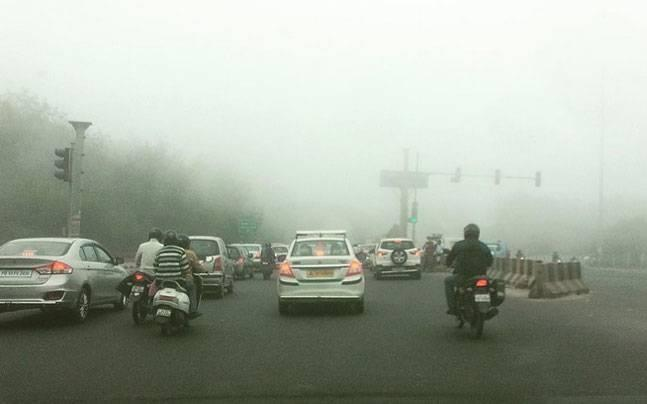backpack: (446, 224, 488, 304), (116, 268, 154, 313), (450, 228, 490, 270), (135, 229, 164, 270), (449, 247, 493, 273), (154, 244, 185, 272), (182, 242, 208, 275), (186, 251, 205, 273)
bench: (486, 240, 507, 257)
bicycle: (116, 261, 157, 318), (185, 251, 207, 311), (409, 241, 439, 268), (189, 271, 204, 311), (353, 242, 377, 265)
boat: (443, 225, 492, 271)
car: (0, 235, 129, 321), (56, 245, 185, 322), (274, 233, 367, 314), (124, 248, 209, 316), (143, 236, 226, 303), (421, 231, 498, 301), (382, 226, 477, 280), (153, 232, 200, 321), (129, 229, 201, 282), (121, 268, 184, 326), (140, 229, 185, 310), (144, 268, 199, 332), (117, 243, 183, 296), (281, 232, 359, 276), (185, 236, 235, 299), (153, 263, 214, 313), (126, 234, 162, 318), (171, 260, 228, 306), (200, 238, 252, 288), (438, 225, 492, 273), (254, 237, 317, 277), (163, 234, 220, 278), (175, 234, 206, 311), (229, 236, 274, 288), (116, 261, 157, 318), (370, 236, 421, 278), (387, 234, 438, 275), (180, 237, 216, 292), (406, 235, 458, 269), (464, 235, 507, 274), (233, 237, 287, 266), (190, 265, 235, 299), (356, 238, 397, 275), (288, 231, 349, 255), (274, 239, 309, 280), (427, 237, 474, 266), (241, 242, 277, 279), (185, 251, 207, 311), (288, 238, 339, 263), (114, 260, 142, 303), (177, 234, 206, 274), (228, 242, 260, 278), (308, 229, 362, 250), (253, 245, 285, 280), (368, 242, 408, 269), (280, 235, 325, 258), (375, 238, 417, 262), (373, 258, 421, 279), (379, 246, 421, 270), (401, 245, 437, 272), (211, 241, 239, 272), (418, 235, 447, 264), (483, 239, 509, 271), (416, 245, 450, 269), (344, 239, 366, 276), (272, 246, 295, 281), (265, 243, 288, 277), (220, 247, 237, 292), (410, 241, 440, 266), (394, 241, 424, 266), (350, 237, 381, 261), (189, 235, 224, 256), (436, 230, 464, 256), (222, 243, 242, 279), (399, 239, 433, 259), (430, 238, 457, 263), (353, 242, 376, 271), (232, 242, 262, 264), (255, 241, 278, 268), (249, 253, 272, 279), (227, 245, 248, 273), (241, 244, 261, 273), (234, 249, 252, 280), (441, 239, 461, 266), (387, 242, 411, 264), (260, 247, 276, 280), (420, 241, 437, 271), (514, 272, 543, 289), (249, 242, 272, 263), (425, 239, 441, 268), (424, 232, 444, 255), (381, 237, 416, 250), (526, 268, 543, 294), (404, 244, 426, 263), (421, 245, 446, 261), (264, 242, 282, 264), (412, 244, 430, 266), (273, 247, 287, 275), (485, 240, 508, 257), (228, 240, 260, 252), (346, 241, 365, 261), (228, 242, 253, 257), (412, 241, 437, 256), (444, 237, 463, 256), (350, 235, 377, 248), (245, 252, 258, 279), (271, 244, 288, 264), (353, 241, 373, 258), (428, 241, 449, 257), (277, 254, 291, 278), (244, 243, 262, 261), (227, 244, 245, 262), (408, 239, 430, 253), (434, 246, 451, 264), (510, 272, 528, 289), (432, 239, 444, 264), (353, 239, 376, 252), (419, 237, 439, 251), (444, 243, 456, 266), (391, 248, 408, 264), (273, 251, 291, 265), (399, 238, 417, 251), (518, 273, 533, 288), (425, 233, 441, 246), (525, 272, 536, 289)
chair: (353, 242, 377, 265), (486, 240, 508, 257)
handbag: (452, 237, 490, 272), (154, 244, 185, 272)
horse: (443, 224, 492, 308)
motorcycle: (448, 226, 529, 335), (416, 242, 511, 324), (138, 239, 204, 315), (446, 259, 506, 339), (444, 231, 494, 319), (137, 270, 200, 333), (455, 246, 510, 313), (177, 247, 225, 319), (122, 258, 183, 314), (185, 236, 235, 299), (137, 229, 174, 312), (167, 249, 207, 325), (123, 274, 176, 331), (442, 227, 499, 280), (441, 269, 484, 336), (126, 240, 161, 318), (152, 256, 195, 318), (464, 273, 506, 327), (118, 269, 156, 324), (153, 280, 190, 331), (442, 259, 472, 318), (180, 248, 202, 314), (126, 257, 155, 305), (166, 272, 194, 321), (133, 277, 159, 328), (145, 278, 172, 327), (115, 268, 145, 311), (249, 242, 276, 280), (187, 264, 207, 315), (129, 275, 149, 326), (227, 244, 254, 279), (411, 239, 441, 267), (423, 239, 449, 268), (353, 242, 377, 271), (420, 241, 437, 271), (434, 245, 451, 265)
person: (8, 237, 135, 321), (135, 229, 228, 305), (125, 248, 207, 322), (432, 219, 510, 287), (442, 222, 491, 311), (147, 229, 196, 314), (448, 256, 499, 334), (460, 242, 509, 319), (131, 236, 174, 320), (150, 267, 194, 333), (137, 228, 196, 276), (118, 247, 162, 311), (182, 234, 220, 303), (163, 234, 220, 278), (158, 260, 203, 314), (175, 234, 206, 311), (444, 223, 493, 268), (443, 242, 474, 312), (444, 266, 484, 320), (133, 228, 163, 299), (116, 269, 156, 322), (120, 228, 158, 280), (127, 227, 174, 269), (168, 229, 199, 291), (468, 231, 506, 279), (112, 257, 147, 307), (151, 230, 181, 279), (126, 257, 155, 305), (185, 251, 207, 311), (440, 223, 481, 255), (443, 229, 473, 272), (462, 238, 493, 279), (238, 241, 272, 278), (385, 236, 421, 270), (462, 221, 492, 260), (403, 236, 438, 269), (177, 265, 203, 309), (449, 247, 493, 273), (179, 234, 205, 274), (134, 231, 160, 271), (160, 230, 190, 264), (182, 245, 202, 294), (273, 244, 297, 282), (186, 235, 217, 264), (253, 242, 277, 279), (136, 272, 157, 311), (223, 246, 242, 289), (438, 230, 460, 267), (227, 245, 250, 279), (174, 233, 199, 263), (268, 243, 289, 277), (423, 233, 444, 266), (185, 246, 209, 274), (353, 242, 377, 269), (418, 239, 438, 271), (263, 244, 281, 279), (445, 237, 463, 269), (426, 243, 451, 266), (507, 249, 523, 283), (180, 242, 196, 275), (144, 275, 160, 308), (319, 239, 349, 256), (413, 239, 433, 264), (528, 263, 542, 298), (249, 242, 272, 263), (297, 240, 327, 256), (182, 242, 207, 261), (309, 240, 338, 256), (306, 242, 329, 262), (409, 243, 428, 267), (419, 235, 441, 255), (512, 254, 526, 285), (165, 231, 190, 248), (332, 235, 352, 254), (276, 250, 291, 275), (424, 243, 436, 273), (488, 240, 509, 257), (262, 241, 276, 266), (430, 234, 444, 259), (179, 232, 194, 254), (188, 245, 202, 268), (432, 241, 445, 265), (435, 236, 448, 260), (505, 250, 516, 278), (191, 254, 207, 273), (428, 242, 439, 269), (183, 239, 198, 258), (444, 243, 456, 266), (163, 230, 180, 246), (437, 245, 451, 264), (311, 241, 328, 256), (176, 232, 190, 248), (516, 272, 529, 289), (328, 242, 346, 254), (515, 251, 524, 275), (296, 243, 313, 255), (19, 246, 38, 256), (527, 270, 536, 291), (510, 253, 518, 275)
stop sign: (53, 146, 70, 180)
suitcase: (443, 268, 458, 315)
tennis racket: (353, 242, 377, 267)
traffic light: (55, 122, 89, 227), (64, 122, 89, 180), (375, 239, 418, 266), (58, 146, 83, 181), (53, 147, 69, 180), (71, 150, 84, 181), (408, 201, 418, 223), (406, 211, 418, 225)
truck: (442, 228, 499, 329), (143, 236, 226, 303), (126, 250, 204, 318), (439, 222, 497, 280), (185, 235, 235, 298), (200, 238, 252, 288), (370, 237, 421, 279), (230, 242, 275, 279), (287, 230, 348, 256), (252, 243, 283, 278), (400, 238, 436, 267), (375, 238, 417, 262), (228, 243, 253, 278), (245, 242, 279, 266), (414, 238, 442, 266), (240, 243, 267, 272), (229, 242, 263, 265), (270, 243, 289, 267)
umbrella: (443, 225, 492, 271)
